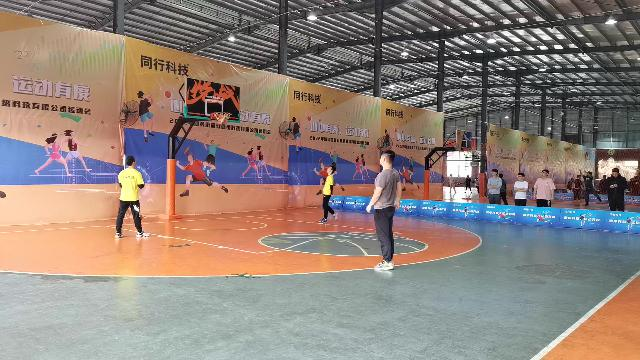goal: (218, 114, 228, 124)
